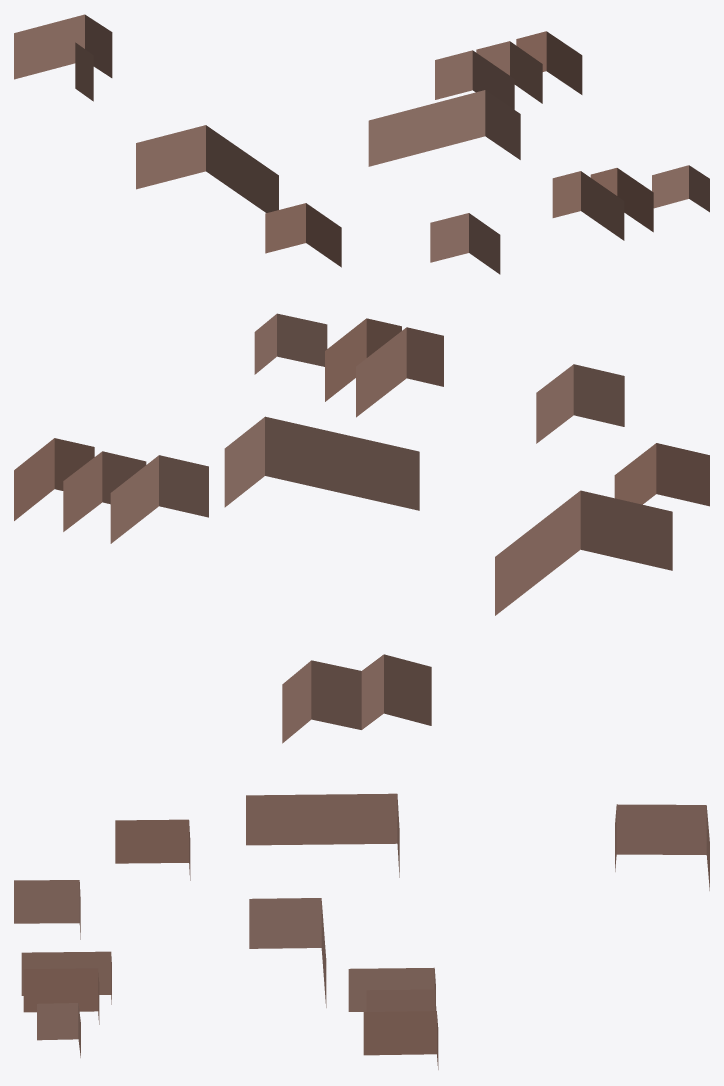
File: c_1632_17821_buildings_residential.glb
3 renders of one model, top to bottom at view 1: azimuth 30°, elevation 25°; view 2: azimuth 150°, elevation 25°; view 3: azimuth 270°, elevation 25°, orthographic. The views are drawn at different scales.
Visible parts, largest first — view 1: geometry_0; view 2: geometry_0; view 3: geometry_0.
Part boxes in pixels (left/top/right/bottom): geometry_0: left=14, top=14, right=709, bottom=274; geometry_0: left=14, top=313, right=709, bottom=743; geometry_0: left=14, top=793, right=709, bottom=1069.
Bounding box in the file's own units: 107 × 11.48 × 139.
